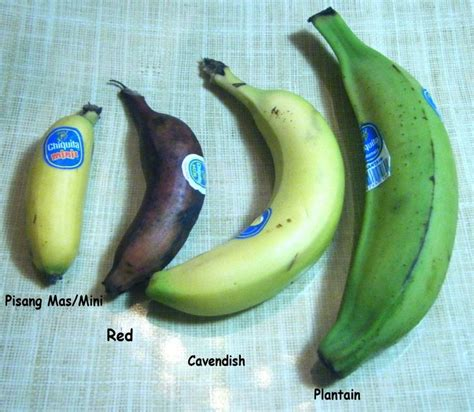banana: (142, 82, 349, 320), (317, 48, 461, 381), (100, 86, 208, 300), (15, 105, 98, 283)
